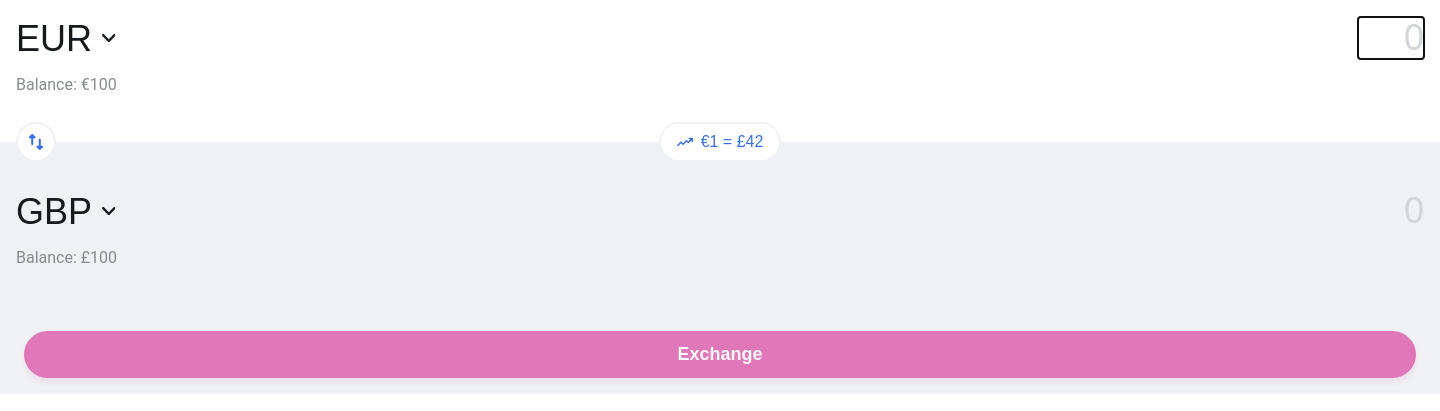
Test case: <ExchangeWidget /> › should automatically pre-convert the "from" currency value when typing into the "to" field
Type "10" into the field named "Convert to amount" at (1391, 211), box [1358,190,1424,232]
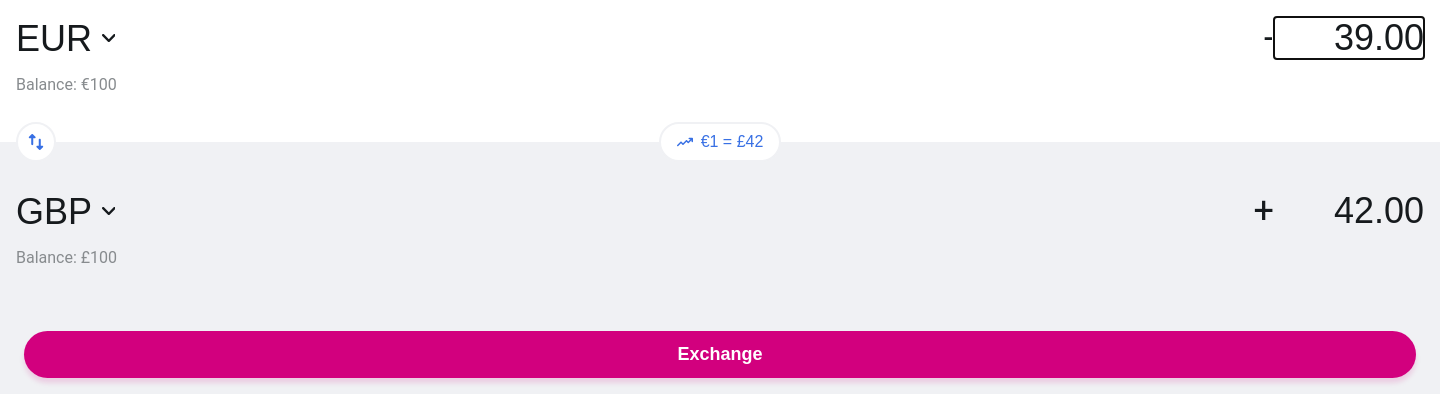
Check: the field named "Convert from amount" holds "39.00", box [1274,17,1424,59]
